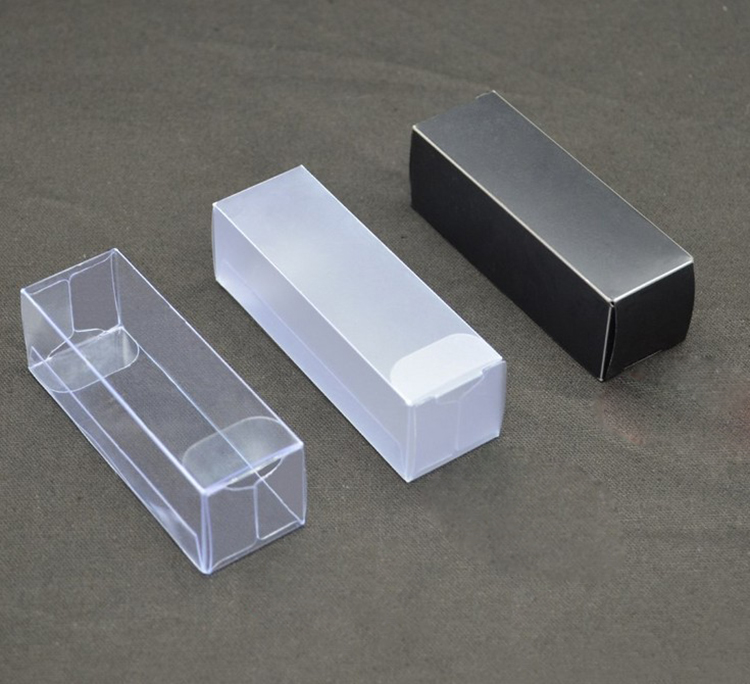PlasticBox: (16, 244, 314, 583)
